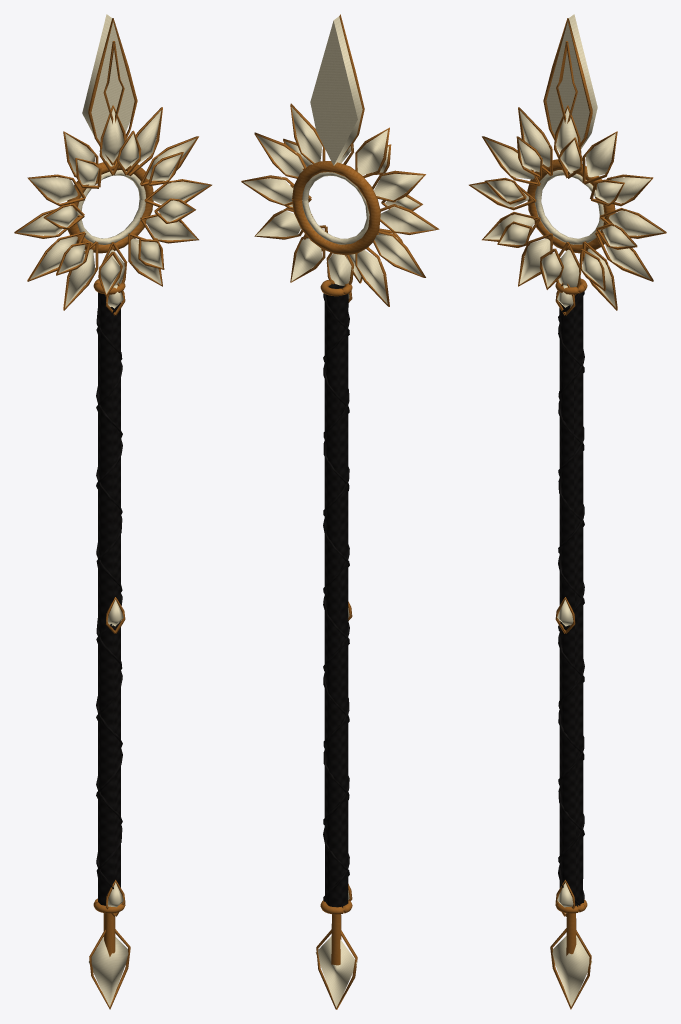
The picture shows the model from 3 angles, left to right: view 1: azimuth 30°, elevation 25°; view 2: azimuth 150°, elevation 25°; view 3: azimuth 330°, elevation 25°; orthographic projection.
Parts seen in each view (by area): view 1: Grey_woven_grip, Folded_ivory_blade, Counterweight_finial, Open_lotus_gold_core, Crossed_grip_binding, Inner_enamel_circle, Crossed_grip_binding.001, Gold_blade_edge, Lotus_petal.010, Lotus_petal.004, Lotus_petal, Lotus_petal.003 (+8 smaller); view 2: Grey_woven_grip, Folded_ivory_blade, Open_lotus_gold_core, Counterweight_finial, Crossed_grip_binding.001, Crossed_grip_binding, Inner_enamel_circle, Lotus_petal.010, Lotus_petal.011, Lotus_petal.009, Lotus_petal.008, Lotus_petal.001 (+8 smaller); view 3: Grey_woven_grip, Folded_ivory_blade, Counterweight_finial, Open_lotus_gold_core, Crossed_grip_binding.001, Crossed_grip_binding, Inner_enamel_circle, Gold_blade_edge, Lotus_petal.001, Lotus_petal.003, Lotus_petal.007, Lotus_petal.010 (+7 smaller).
Boxes of the visible parts, x1,y1,x2,y2 form: Grey_woven_grip: [98, 292, 120, 905]; Folded_ivory_blade: [82, 14, 136, 146]; Counterweight_finial: [89, 937, 128, 1006]; Open_lotus_gold_core: [67, 160, 153, 253]; Crossed_grip_binding: [96, 308, 122, 889]; Inner_enamel_circle: [76, 170, 145, 244]; Crossed_grip_binding.001: [96, 303, 122, 876]; Gold_blade_edge: [88, 18, 137, 165]; Lotus_petal.010: [30, 176, 77, 203]; Lotus_petal.004: [146, 215, 196, 240]; Lotus_petal: [99, 108, 124, 166]; Lotus_petal.003: [152, 180, 209, 204]; Grey_woven_grip: [324, 284, 348, 907]; Folded_ivory_blade: [310, 16, 362, 165]; Open_lotus_gold_core: [292, 161, 380, 254]; Counterweight_finial: [315, 936, 357, 1007]; Crossed_grip_binding.001: [323, 312, 349, 901]; Crossed_grip_binding: [323, 293, 349, 876]; Inner_enamel_circle: [302, 172, 369, 244]; Lotus_petal.010: [373, 173, 423, 201]; Lotus_petal.011: [357, 130, 387, 175]; Lotus_petal.009: [380, 205, 435, 233]; Lotus_petal.008: [374, 235, 422, 275]; Lotus_petal.001: [291, 107, 322, 162]; Grey_woven_grip: [559, 292, 583, 906]; Folded_ivory_blade: [546, 14, 597, 149]; Counterweight_finial: [552, 935, 591, 1006]; Open_lotus_gold_core: [527, 159, 615, 253]; Crossed_grip_binding.001: [558, 293, 584, 902]; Crossed_grip_binding: [558, 291, 584, 905]; Inner_enamel_circle: [535, 170, 604, 244]; Gold_blade_edge: [543, 18, 592, 152]; Lotus_petal.001: [585, 133, 615, 177]; Lotus_petal.003: [609, 209, 663, 235]; Lotus_petal.007: [519, 238, 550, 284]; Lotus_petal.010: [484, 138, 534, 179].
Bounding box in the file's own units: 0.4699 × 2.25 × 0.092.
3 materials, 3 textured.
